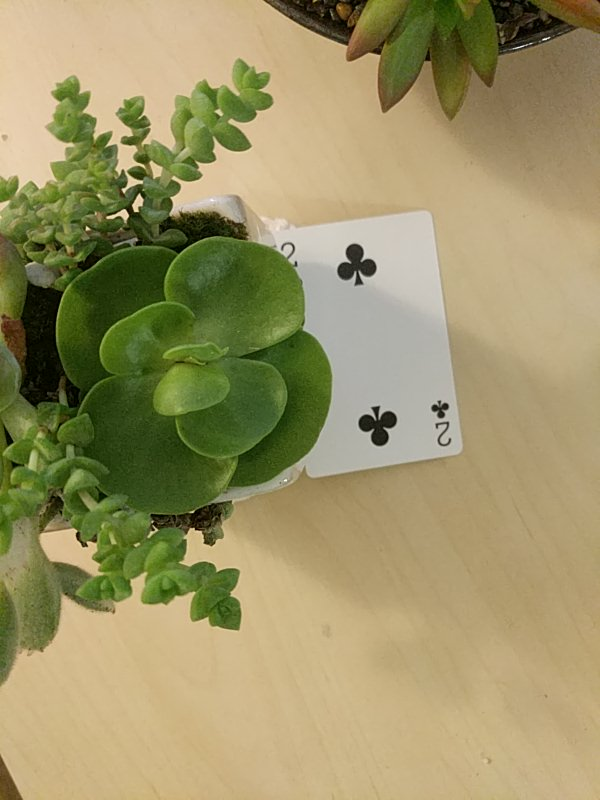Clubs: (270, 211, 461, 478)
